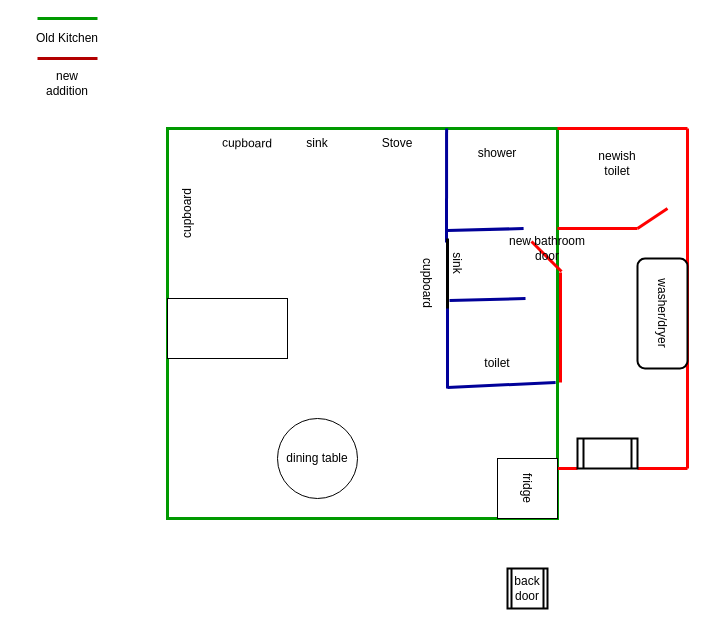
Image size: 707x627. Some labels were removed from this diagram. Each missing label, with the centre of its shape:
"kitchen island/coffee bar - cupboard above" belongs at pixel 227 328.
"new backdoor" belongs at pixel 607 453.
